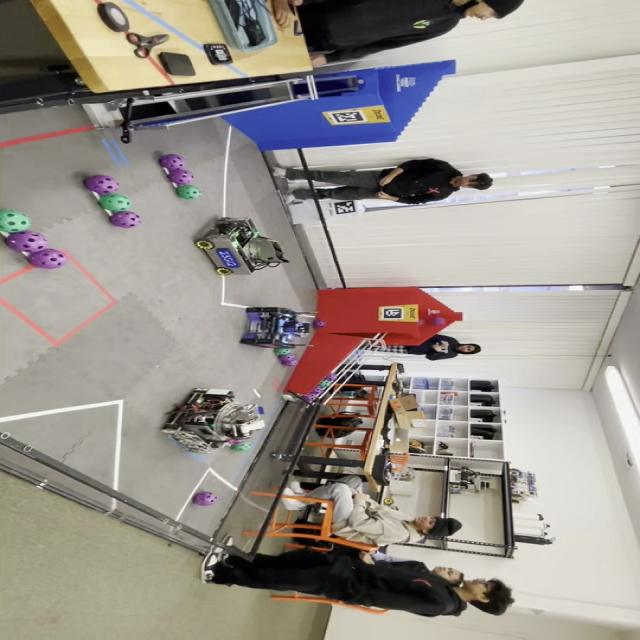artifact_green: (0, 210, 30, 233), (99, 194, 131, 212), (176, 185, 202, 199), (230, 442, 251, 451), (311, 386, 323, 396), (274, 348, 291, 355), (325, 372, 337, 381), (318, 380, 331, 388)
artifact_purple: (5, 231, 47, 252), (29, 249, 68, 269), (83, 175, 119, 195), (110, 211, 142, 227), (159, 154, 186, 171), (168, 170, 194, 185), (194, 492, 218, 506), (279, 354, 298, 366), (230, 441, 251, 451), (311, 386, 324, 396), (432, 316, 446, 325), (305, 393, 317, 403), (303, 394, 315, 403), (318, 380, 330, 388), (325, 373, 337, 381), (313, 320, 325, 327), (228, 440, 243, 445)
